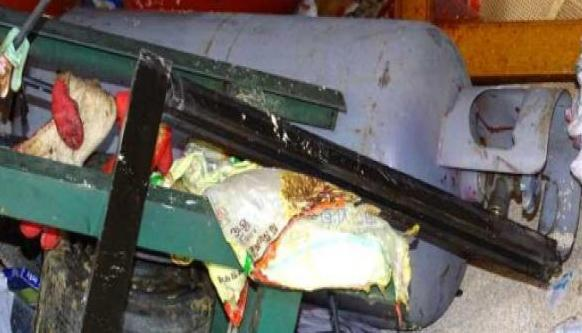cylinder: (0, 1, 582, 333)
